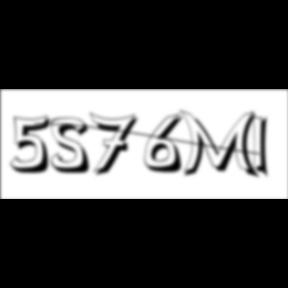5: (9, 114, 56, 176)
6: (144, 112, 190, 176)
7: (90, 111, 144, 179)
I: (252, 110, 276, 182)
M: (179, 108, 263, 181)
S: (51, 117, 97, 176)
